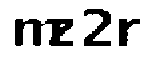2: (81, 7, 113, 49)
m: (11, 16, 59, 51)
r: (113, 17, 143, 48)
z: (48, 19, 75, 48)
